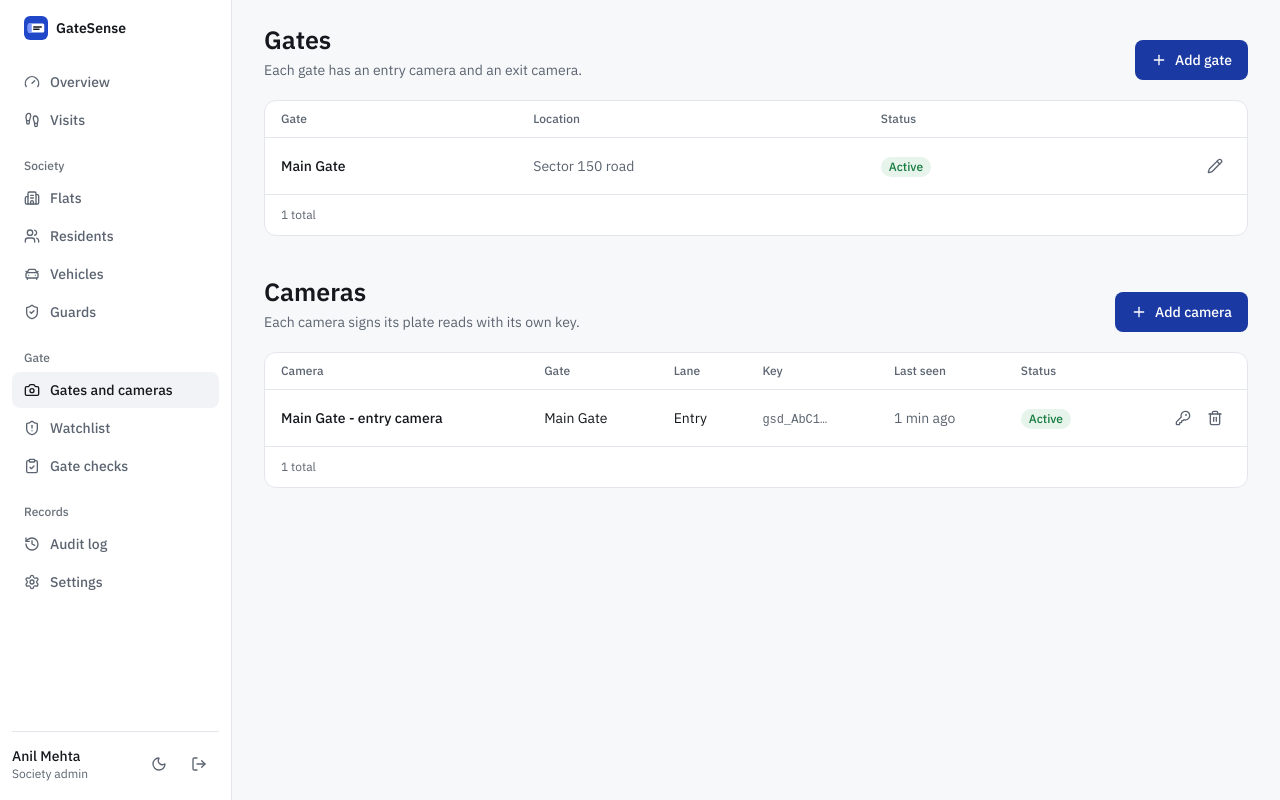
it: Gates and cameras › rotates a camera key and shows the new key once
This screenshot has width=1280, height=800.
Expected: the text "Main Gate - entry camera" is shown, x1=281 y1=409 x2=443 y2=427
Expected: the text "gsd_AbC1…" is shown, x1=762 y1=413 x2=827 y2=427
Click the button named "Rotate camera key" at (1183, 418), box x1=1167 y1=402 x2=1199 y2=434
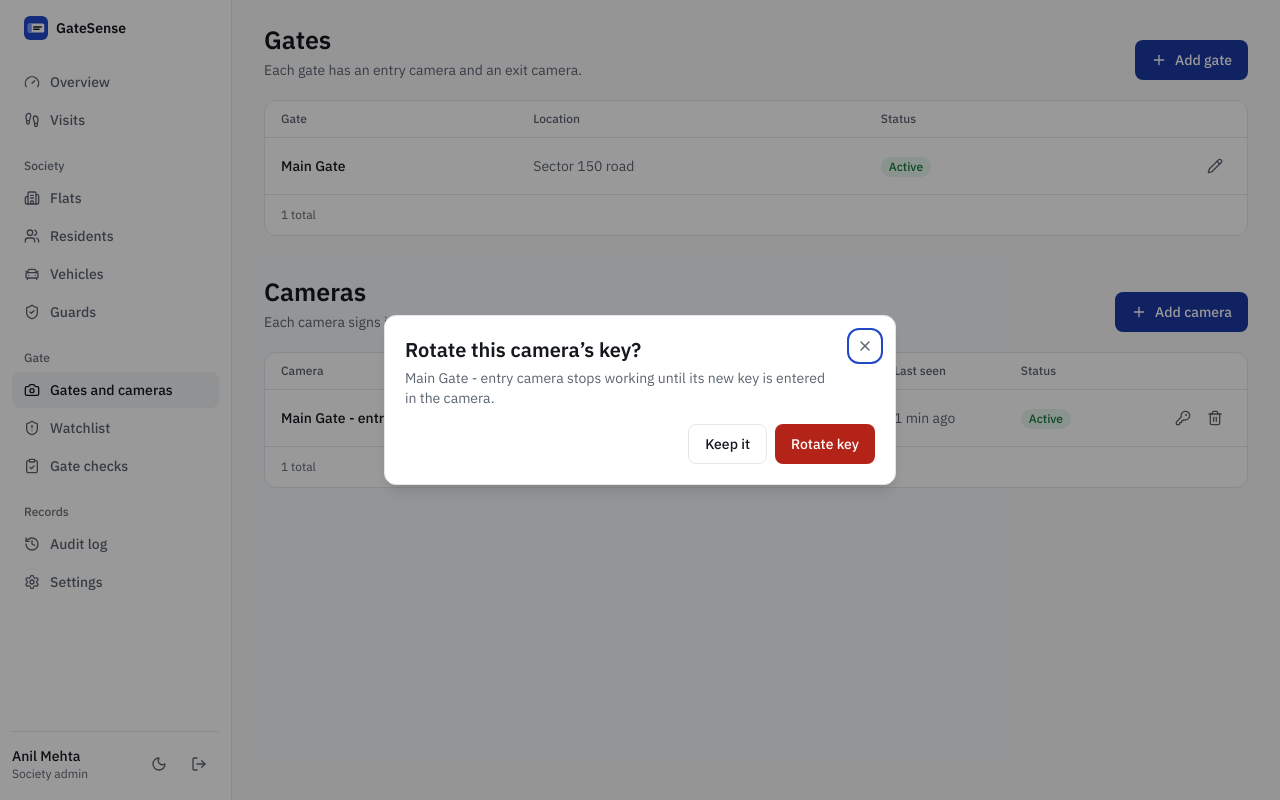
Now the text "stops working until its new key" is shown, box x1=405 y1=369 x2=825 y2=407
Click the button "Rotate key" at (825, 444), box x1=775 y1=424 x2=875 y2=464
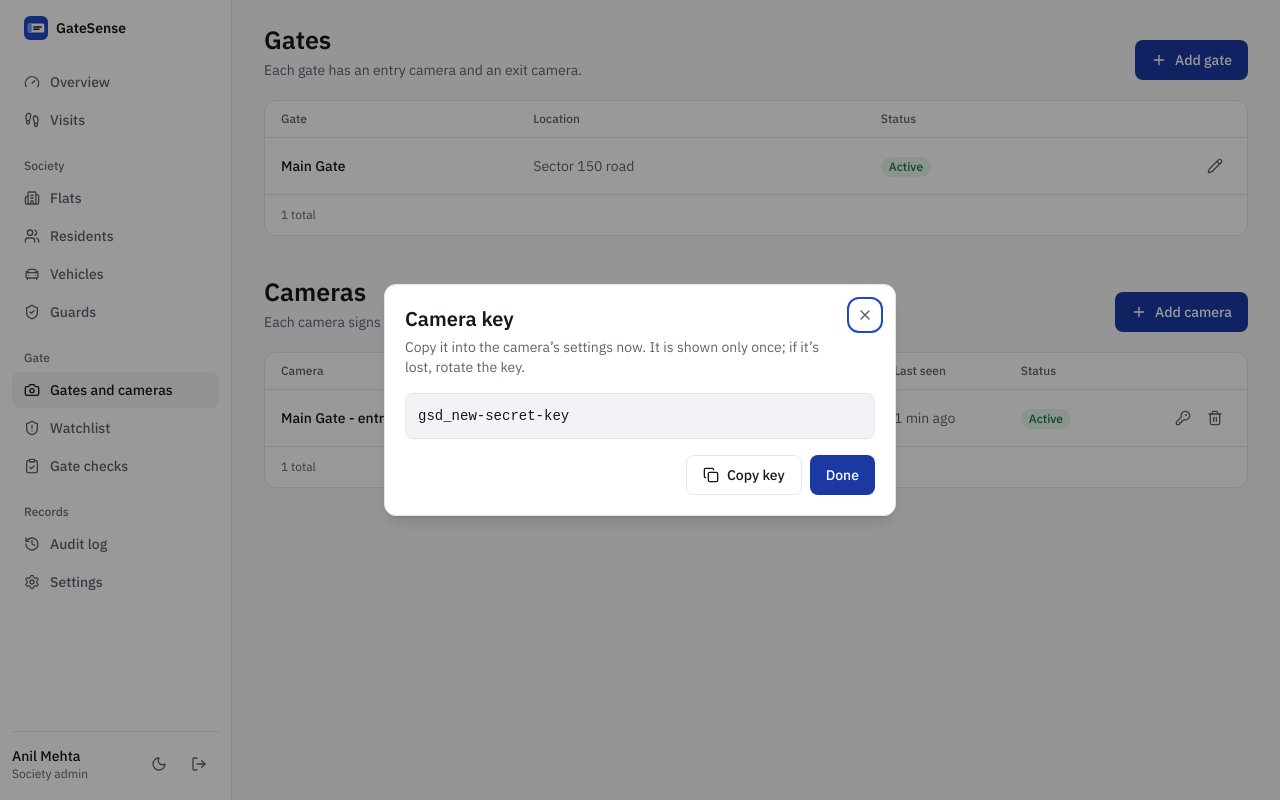
Now the text "gsd_new-secret-key" is shown, box x1=405 y1=393 x2=875 y2=439
